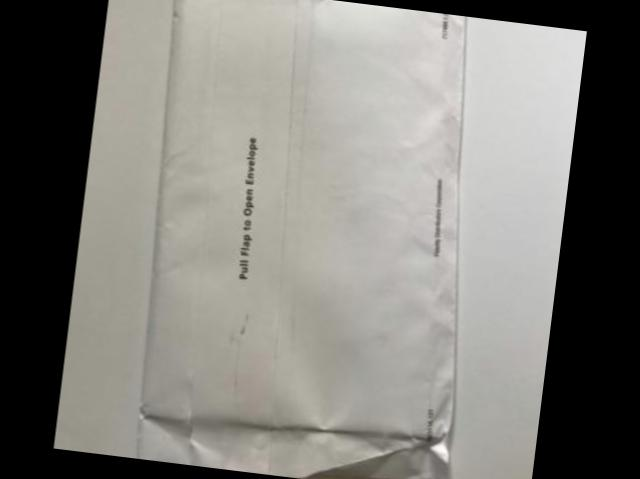cardboard paper: (141, 0, 467, 479)
